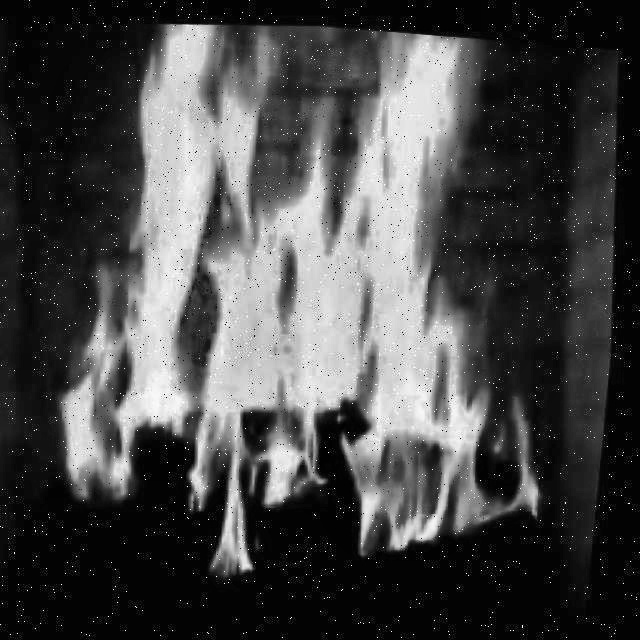Fire: (22, 4, 596, 602)
